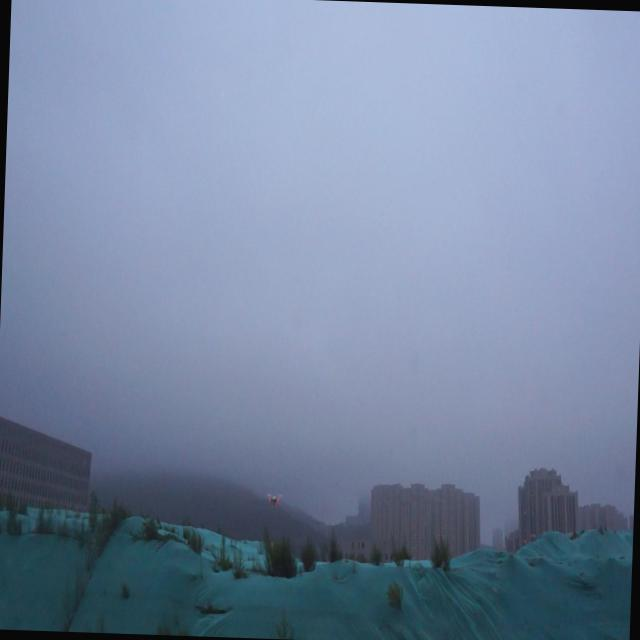drone: (262, 489, 285, 510)
